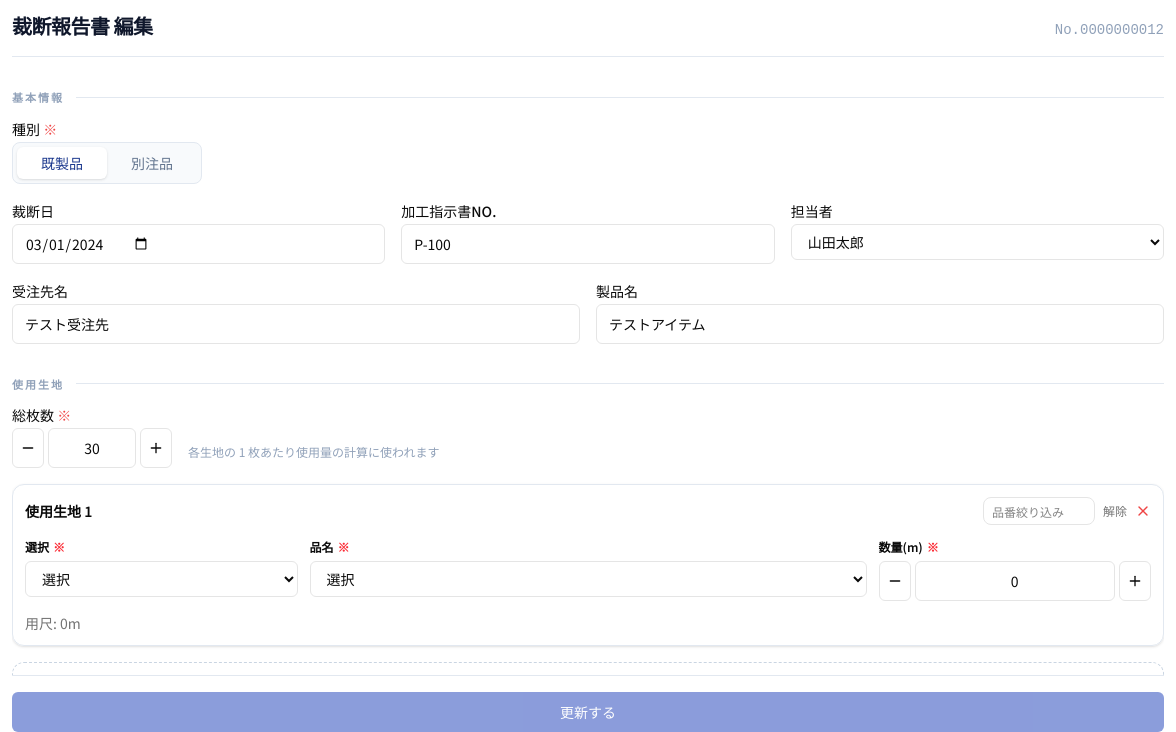
CuttingReportForm › 種別を別注品に切り替えられる
Click the radio button labelled "別注品" at [152, 162], box [131, 152, 173, 172]
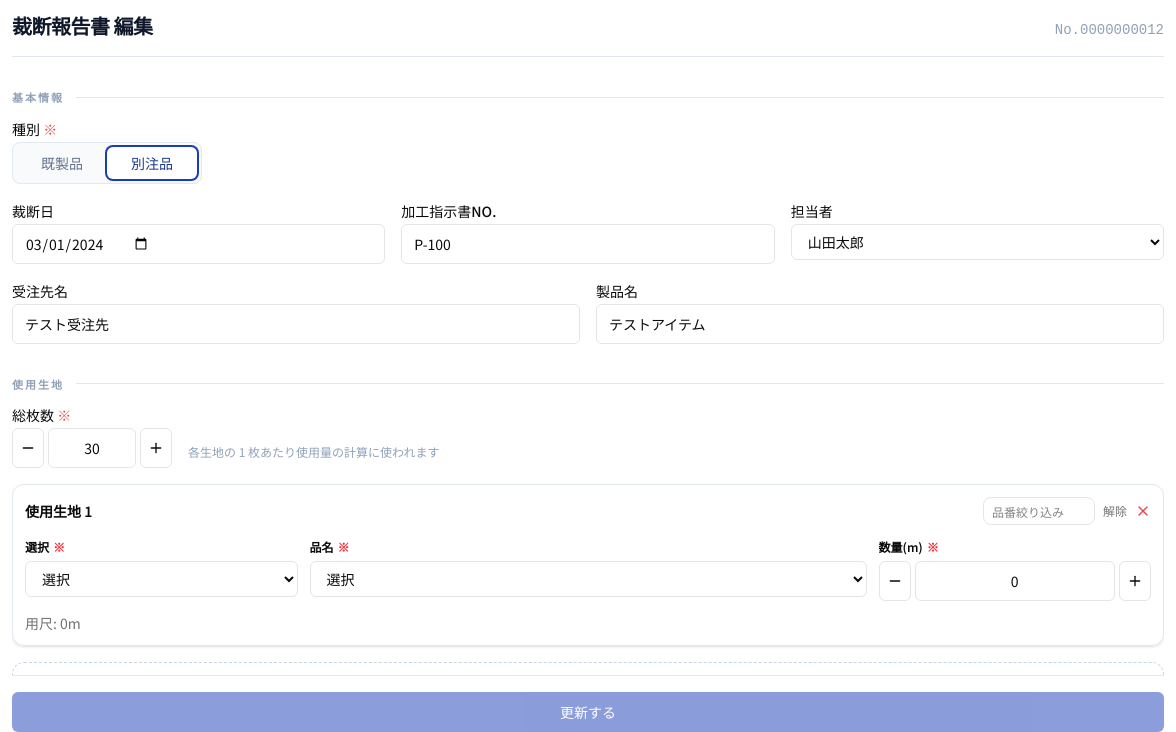
Now the radio button labelled "別注品" is checked, box [107, 146, 197, 178]
Now the radio button labelled "既製品" is not checked, box [41, 152, 83, 172]
